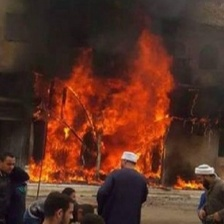fire: (32, 35, 171, 184), (176, 174, 206, 190)
smoke: (42, 1, 223, 72)
